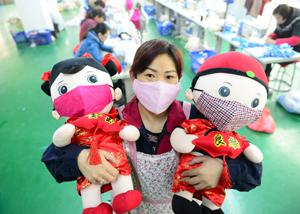OK: (128, 64, 179, 115)
